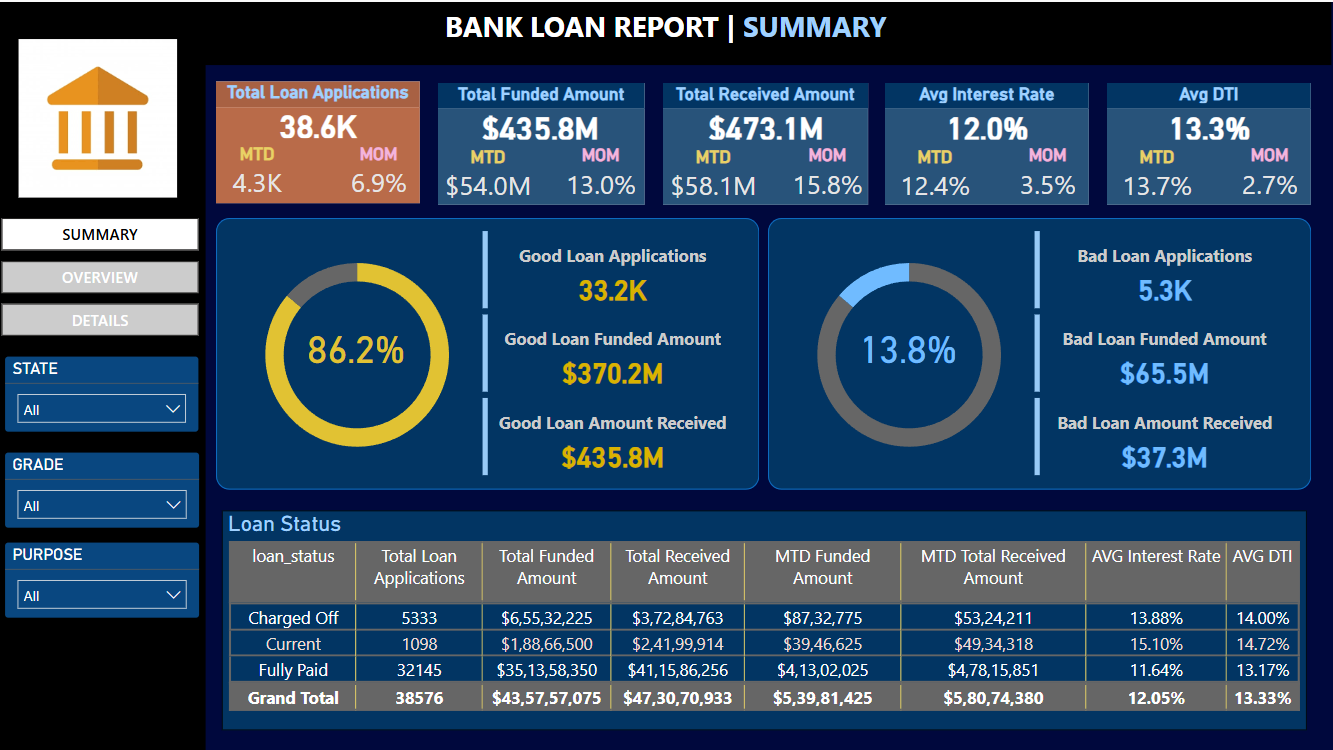

What the dashboard file says about the page in this screenshot:
{"tool":"powerbi","page":{"name":"SUMMARY","canvas":[1280,720],"ordinal":0},"visuals":[{"type":"shape","box":[0,0,1279.4,60.5],"z":0},{"type":"shape","title":"Total Loan Applications","box":[210.5,75.7,195.3,116.6],"z":0,"group":"g1"},{"type":"shape","title":"Total Funded Amount","box":[422.7,77.2,198,116.6],"z":0,"group":"g2"},{"type":"shape","title":"Total Received Amount","box":[638.1,77.2,196.5,116.6],"z":0,"group":"g3"},{"type":"shape","title":"Avg Interest Rate","box":[852,77.2,195.3,116.6],"z":0,"group":"g4"},{"type":"shape","title":"Avg DTI","box":[1064.4,77.2,195.3,116.6],"z":0,"group":"g5"},{"type":"shape","box":[0,60.5,200,659.5],"z":1000},{"type":"card","fields":{"Values":["banking_project bank_loan_data.Total Loan Applications"]},"box":[210.5,98.4,195.3,36.3],"z":1000,"group":"g1"},{"type":"card","fields":{"Values":["banking_project bank_loan_data.Total Funded Amount"]},"box":[422.7,99.9,195.3,36.3],"z":1000,"group":"g2"},{"type":"card","fields":{"Values":["banking_project bank_loan_data.Total Received Amount"]},"box":[638.1,99.9,196.5,36.3],"z":1000,"group":"g3"},{"type":"card","fields":{"Values":["banking_project bank_loan_data.AVG Interest Rate"]},"box":[852,99.9,195.3,36.3],"z":1000,"group":"g4"},{"type":"card","fields":{"Values":["banking_project bank_loan_data.AVG DTI"]},"box":[1064.4,99.9,195.3,36.3],"z":1000,"group":"g5"},{"type":"textbox","box":[417.9,0,445.2,60.6],"z":2000},{"type":"card","title":"MTD","fields":{"Values":["banking_project bank_loan_data.MTD Loan Applications"]},"box":[210.5,134.8,78.7,57.5],"z":2000,"group":"g1"},{"type":"card","title":"MTD","fields":{"Values":["banking_project bank_loan_data.MTD Funded Amount"]},"box":[421.3,138.2,98.4,57.5],"z":2000,"group":"g2"},{"type":"card","title":"MTD","fields":{"Values":["banking_project bank_loan_data.MTD Total Received Amount"]},"box":[636.7,138.2,99,57.5],"z":2000,"group":"g3"},{"type":"card","title":"MTD","fields":{"Values":["banking_project bank_loan_data.MTD AVG Interest Rate"]},"box":[850.6,138.2,98.4,57.5],"z":2000,"group":"g4"},{"type":"card","title":"MTD","fields":{"Values":["banking_project bank_loan_data.MTD Avg DTI"]},"box":[1063,138.2,98.4,57.5],"z":2000,"group":"g5"},{"type":"group","id":"g1","title":"Group 1","box":[210.5,75.7,195.3,116.6],"z":3000},{"type":"card","title":"MOM","fields":{"Values":["banking_project bank_loan_data.MOM Loan Application"]},"box":[327.1,134.8,78.7,57.5],"z":3000,"group":"g1"},{"type":"card","title":"MOM","fields":{"Values":["banking_project bank_loan_data.MOM Total Funded Amount"]},"box":[539.3,136.3,78.7,57.5],"z":3000,"group":"g2"},{"type":"card","title":"MOM","fields":{"Values":["banking_project bank_loan_data.MOM Total Received Amount"]},"box":[755.4,136.3,79.2,57.5],"z":3000,"group":"g3"},{"type":"card","title":"MOM","fields":{"Values":["banking_project bank_loan_data.MOM Avg Interest Rate"]},"box":[968.6,136.3,78.7,57.5],"z":3000,"group":"g4"},{"type":"card","title":"MOM","fields":{"Values":["banking_project bank_loan_data.MOM Avg DTI"]},"box":[1181,136.3,78.7,57.5],"z":3000,"group":"g5"},{"type":"group","id":"g2","title":"Group 1","box":[421.3,77.2,199.9,118.1],"z":4000},{"type":"group","id":"g3","title":"Group 1","box":[636.7,77.2,198.4,118.1],"z":5000},{"type":"group","id":"g4","title":"Group 1","box":[850.6,77.2,196.8,118.1],"z":6000},{"type":"group","id":"g5","title":"Group 1","box":[1063,77.2,196.8,118.1],"z":7000},{"type":"shape","box":[210.5,207.4,520.9,260.4],"z":8000,"group":"g6"},{"type":"textbox","box":[263.5,207.4,174.1,36.3],"z":8000},{"type":"shape","box":[738.9,207.4,520.9,260.4],"z":8000,"group":"g7"},{"type":"group","id":"g6","title":"Group 2","box":[210.5,207.4,520.9,260.4],"z":9000},{"type":"group","id":"g7","title":"Group 2","box":[738.9,207.4,520.9,260.4],"z":10000},{"type":"donutChart","fields":{"Category":["banking_project bank_loan_data.Good Vs Bad Loans"],"Y":["banking_project bank_loan_data.Total Loan Applications"]},"box":[221.1,222.5,249.8,230.2],"z":10000,"group":"g6"},{"type":"donutChart","fields":{"Category":["banking_project bank_loan_data.Good Vs Bad Loans"],"Y":["banking_project bank_loan_data.Total Loan Applications"]},"box":[749.5,222.5,249.8,230.2],"z":10000,"group":"g7"},{"type":"card","fields":{"Values":["banking_project bank_loan_data.Good Loan %"]},"box":[289.2,301.3,109,59.1],"z":11000,"group":"g6"},{"type":"card","fields":{"Values":["banking_project bank_loan_data.Bad Loan %"]},"box":[817.6,301.3,109,59.1],"z":11000,"group":"g7"},{"type":"group","id":"g8","title":"Group 2","box":[215,487.6,1040.3,210.5],"z":11000},{"type":"slicer","title":"STATE","fields":{"Values":["banking_project bank_loan_data.address_state"]},"box":[6.1,337.7,189.3,75.7],"z":12000},{"type":"cardVisual","fields":{"Data":["banking_project bank_loan_data.Good Loan Applications","banking_project bank_loan_data.Good Loan Funded Amount","banking_project bank_loan_data.Good Loan Amount Received"]},"box":[460.3,215,260.4,245.3],"z":13000,"group":"g6"},{"type":"cardVisual","fields":{"Data":["banking_project bank_loan_data.Bad Loan Applications","banking_project bank_loan_data.Bad Loan Funded Amount","banking_project bank_loan_data.Bad Loan Amount Received"]},"box":[988.7,215,260.4,245.3],"z":13000,"group":"g7"},{"type":"slicer","title":"GRADE","fields":{"Values":["banking_project bank_loan_data.grade"]},"box":[5.8,430,189.8,76.2],"z":13000},{"type":"tableEx","title":"Loan Status","fields":{"Values":["banking_project bank_loan_data.loan_status","banking_project bank_loan_data.Total Loan Applications","banking_project bank_loan_data.Total Funded Amount","banking_project bank_loan_data.Total Received Amount","banking_project bank_loan_data.MTD Funded Amount","banking_project bank_loan_data.MTD Total Received Amount","banking_project bank_loan_data.AVG Interest Rate","banking_project bank_loan_data.AVG DTI"]},"box":[215,487.6,1040.3,210.5],"z":13004,"group":"g8"},{"type":"slicer","title":"PURPOSE","fields":{"Values":["banking_project bank_loan_data.purpose"]},"box":[5.8,516.3,189.8,76.2],"z":14000},{"type":"pageNavigator","box":[4.5,207.4,189.3,115.1],"z":14001},{"type":"image","box":[0,30.3,193.8,162],"z":14002}]}

Visuals, with their boxes in screenshot pixels (x1, y1, x2, y2), scaled from the page's 1280x720 canvas onto the 1333x750 screenshot:
shape: [x1=0, y1=0, x2=1332, y2=63]
"Total Loan Applications" shape: [x1=219, y1=79, x2=423, y2=200]
"Total Funded Amount" shape: [x1=440, y1=80, x2=646, y2=202]
"Total Received Amount" shape: [x1=665, y1=80, x2=869, y2=202]
"Avg Interest Rate" shape: [x1=887, y1=80, x2=1091, y2=202]
"Avg DTI" shape: [x1=1108, y1=80, x2=1312, y2=202]
shape: [x1=0, y1=63, x2=208, y2=749]
card - banking_project bank_loan_data.Total Loan Applications: [x1=219, y1=103, x2=423, y2=140]
card - banking_project bank_loan_data.Total Funded Amount: [x1=440, y1=104, x2=644, y2=142]
card - banking_project bank_loan_data.Total Received Amount: [x1=665, y1=104, x2=869, y2=142]
card - banking_project bank_loan_data.AVG Interest Rate: [x1=887, y1=104, x2=1091, y2=142]
card - banking_project bank_loan_data.AVG DTI: [x1=1108, y1=104, x2=1312, y2=142]
textbox: [x1=435, y1=0, x2=899, y2=63]
"MTD" card: [x1=219, y1=140, x2=301, y2=200]
"MTD" card: [x1=439, y1=144, x2=541, y2=204]
"MTD" card: [x1=663, y1=144, x2=766, y2=204]
"MTD" card: [x1=886, y1=144, x2=988, y2=204]
"MTD" card: [x1=1107, y1=144, x2=1209, y2=204]
"Group 1" group: [x1=219, y1=79, x2=423, y2=200]
"MOM" card: [x1=341, y1=140, x2=423, y2=200]
"MOM" card: [x1=562, y1=142, x2=644, y2=202]
"MOM" card: [x1=787, y1=142, x2=869, y2=202]
"MOM" card: [x1=1009, y1=142, x2=1091, y2=202]
"MOM" card: [x1=1230, y1=142, x2=1312, y2=202]
"Group 1" group: [x1=439, y1=80, x2=647, y2=203]
"Group 1" group: [x1=663, y1=80, x2=870, y2=203]
"Group 1" group: [x1=886, y1=80, x2=1091, y2=203]
"Group 1" group: [x1=1107, y1=80, x2=1312, y2=203]
shape: [x1=219, y1=216, x2=762, y2=487]
textbox: [x1=274, y1=216, x2=456, y2=254]
shape: [x1=769, y1=216, x2=1312, y2=487]
"Group 2" group: [x1=219, y1=216, x2=762, y2=487]
"Group 2" group: [x1=769, y1=216, x2=1312, y2=487]
donutChart - banking_project bank_loan_data.Good Vs Bad Loans x banking_project bank_loan_data.Total Loan Applications: [x1=230, y1=232, x2=490, y2=472]
donutChart - banking_project bank_loan_data.Good Vs Bad Loans x banking_project bank_loan_data.Total Loan Applications: [x1=781, y1=232, x2=1041, y2=472]
card - banking_project bank_loan_data.Good Loan %: [x1=301, y1=314, x2=415, y2=375]
card - banking_project bank_loan_data.Bad Loan %: [x1=851, y1=314, x2=965, y2=375]
"Group 2" group: [x1=224, y1=508, x2=1307, y2=727]
"STATE" slicer: [x1=6, y1=352, x2=203, y2=431]
cardVisual - banking_project bank_loan_data.Good Loan Applications x banking_project bank_loan_data.Good Loan Funded Amount: [x1=479, y1=224, x2=751, y2=479]
cardVisual - banking_project bank_loan_data.Bad Loan Applications x banking_project bank_loan_data.Bad Loan Funded Amount: [x1=1030, y1=224, x2=1301, y2=479]
"GRADE" slicer: [x1=6, y1=448, x2=204, y2=527]
"Loan Status" tableEx: [x1=224, y1=508, x2=1307, y2=727]
"PURPOSE" slicer: [x1=6, y1=538, x2=204, y2=617]
pageNavigator: [x1=5, y1=216, x2=202, y2=336]
image: [x1=0, y1=32, x2=202, y2=200]
